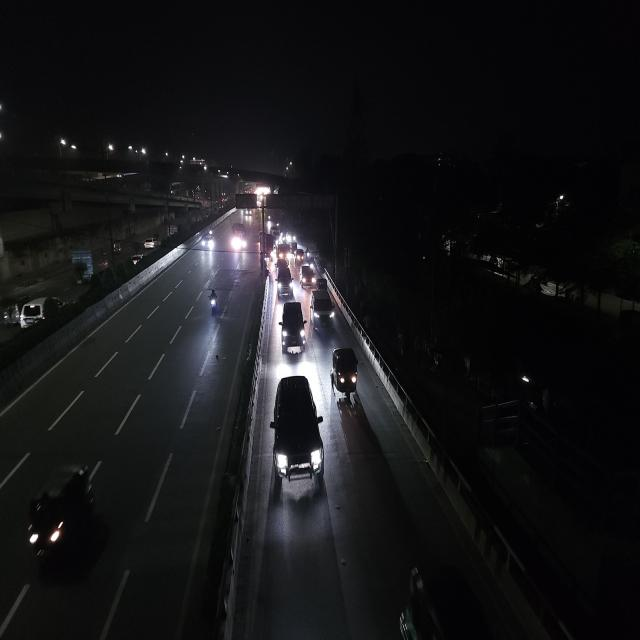bus: (229, 220, 248, 254)
car: (270, 369, 324, 502), (18, 292, 68, 332), (279, 298, 307, 358), (309, 286, 336, 332), (275, 260, 294, 298), (299, 263, 317, 288), (200, 230, 216, 250), (143, 234, 161, 251)
cng: (329, 343, 361, 413), (1, 296, 20, 328), (110, 238, 124, 255), (294, 247, 306, 264)
motorcycle: (207, 286, 220, 318)
pickup_van: (276, 241, 291, 263)
truck: (68, 247, 96, 282), (166, 221, 179, 236)
